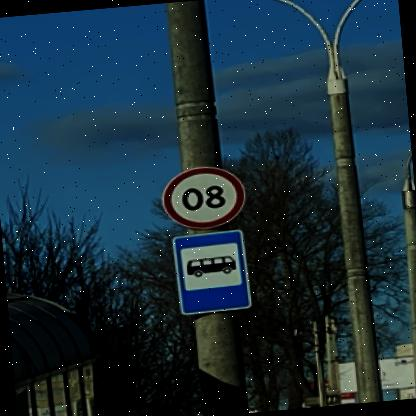speedlimit: (162, 162, 250, 230)
